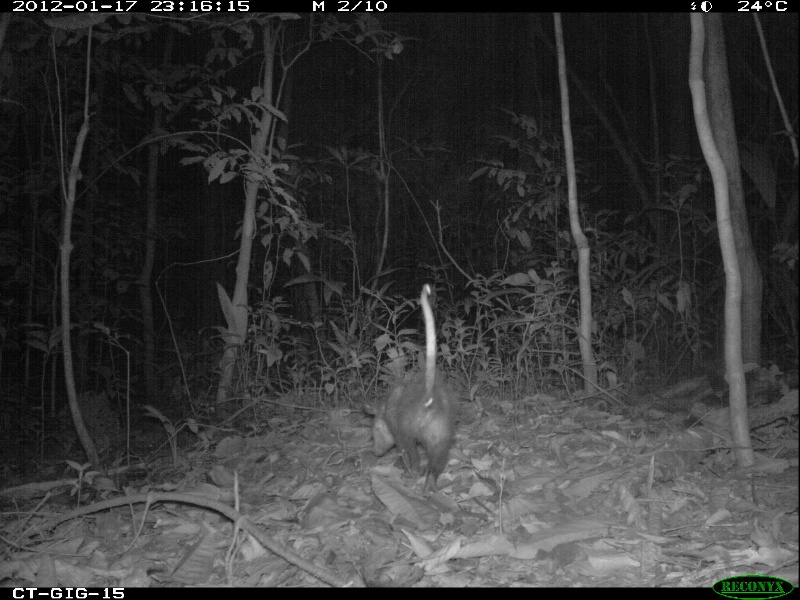opossum: (359, 271, 465, 497)
